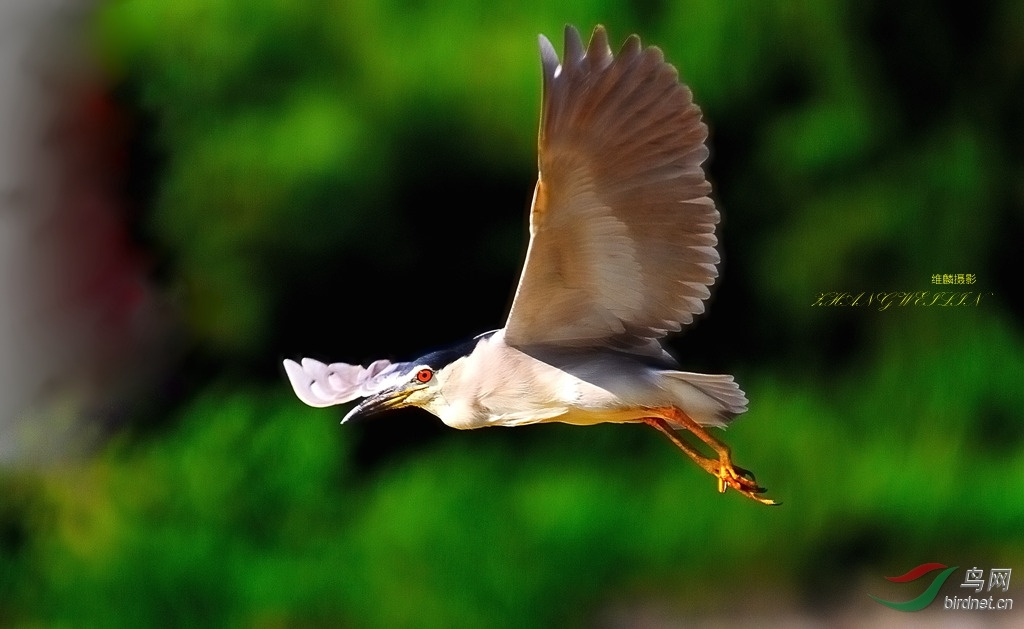bird: (279, 22, 771, 509)
